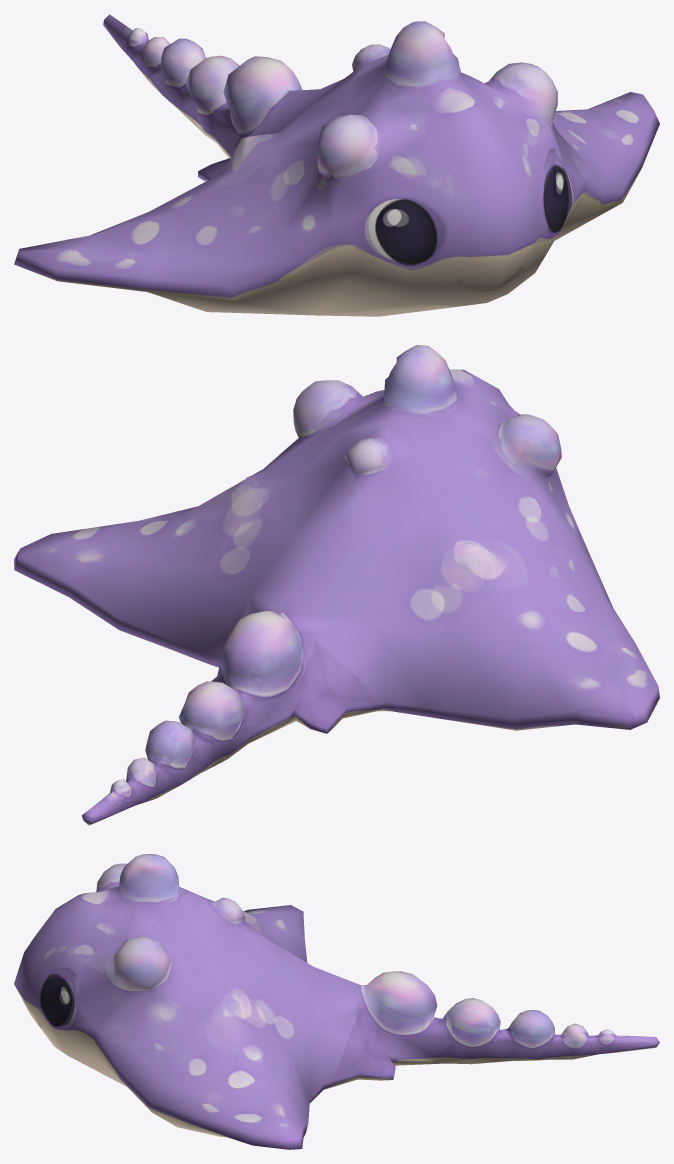
File: bubble_ray.fbx
The picture shows the model from 3 angles, top to bottom: view 1: azimuth 30°, elevation 25°; view 2: azimuth 150°, elevation 25°; view 3: azimuth 270°, elevation 25°; orthographic projection. The views are drawn at different scales.
Visible parts, largest first — view 1: tripo_node_cc6567f5-7049-4e78-87fa-cda07860c189; view 2: tripo_node_cc6567f5-7049-4e78-87fa-cda07860c189; view 3: tripo_node_cc6567f5-7049-4e78-87fa-cda07860c189.
Boxes of the visible parts, x1,y1,x2,y2 form: tripo_node_cc6567f5-7049-4e78-87fa-cda07860c189: (14,14,659,316); tripo_node_cc6567f5-7049-4e78-87fa-cda07860c189: (14,345,659,825); tripo_node_cc6567f5-7049-4e78-87fa-cda07860c189: (14,854,659,1149).
Size of the model in its own units: 0.8887 by 0.4043 by 0.998.
1 material, 1 textured.
